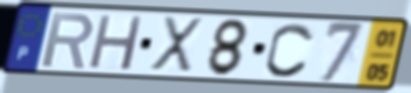7: (321, 20, 367, 85)
8: (204, 17, 251, 79)
C: (263, 21, 317, 80)
H: (86, 12, 147, 72)
R: (39, 10, 96, 70)
X: (146, 14, 205, 76)
